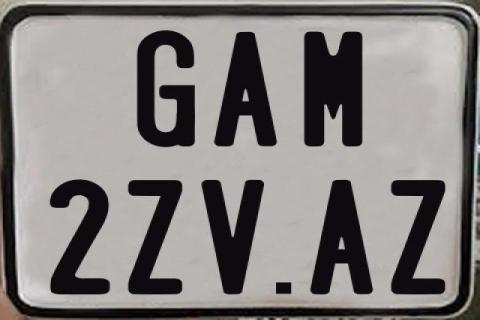0: (47, 178, 113, 298)
A: (308, 180, 373, 299), (212, 31, 274, 147)
G: (135, 29, 195, 147)
M: (301, 29, 360, 150)
V: (200, 179, 262, 296)
Z: (388, 178, 448, 292), (128, 178, 186, 294)
